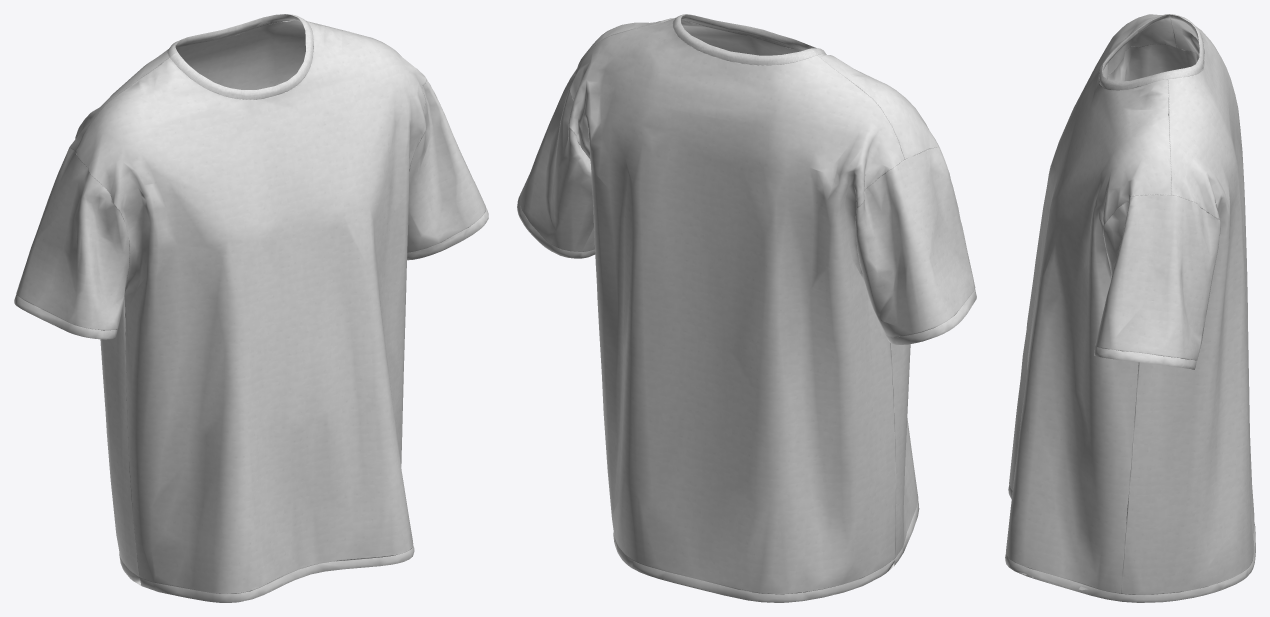
Rendered from tshirt.glb.
3 renders of one model, left to right at view 1: azimuth 30°, elevation 25°; view 2: azimuth 150°, elevation 25°; view 3: azimuth 270°, elevation 25°, orthographic. The views are drawn at different scales.
Parts seen in each view (by area): view 1: Object_2; view 2: Object_2; view 3: Object_2.
Part boxes in pixels (bbox=[...]): Object_2: bbox=[14, 14, 488, 602]; Object_2: bbox=[517, 14, 976, 602]; Object_2: bbox=[1005, 14, 1255, 602].
Bounding box in the file's own units: 0.6369 × 0.7108 × 0.3211.
1 material, 1 textured.
